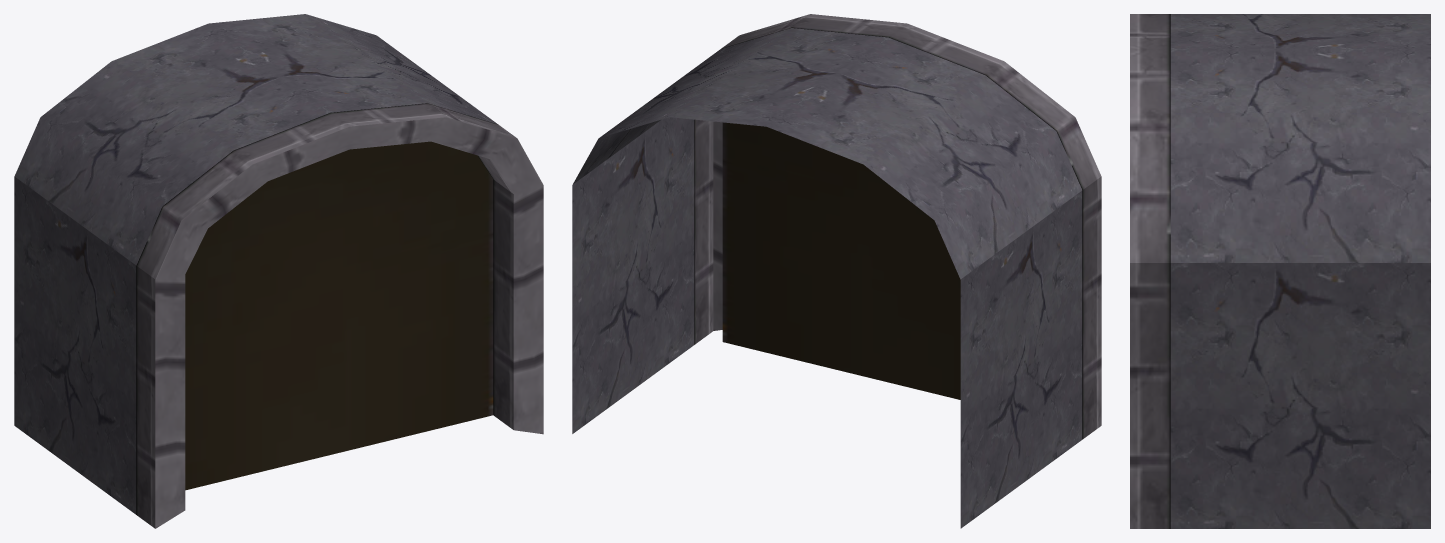
Rendered from BOSS_Gate_01.FBX.
3 renders of one model, left to right at view 1: azimuth 30°, elevation 25°; view 2: azimuth 150°, elevation 25°; view 3: azimuth 270°, elevation 25°, orthographic. The views are drawn at different scales.
Parts seen in each view (by area): view 1: BOSS_Gate_01; view 2: BOSS_Gate_01; view 3: BOSS_Gate_01.
Part boxes in pixels (x1,y1,x2,y2): BOSS_Gate_01: [14, 14, 543, 528]; BOSS_Gate_01: [572, 14, 1101, 528]; BOSS_Gate_01: [1130, 14, 1430, 528].
Size of the model in its own units: 10.68 by 9.33 by 6.72.
